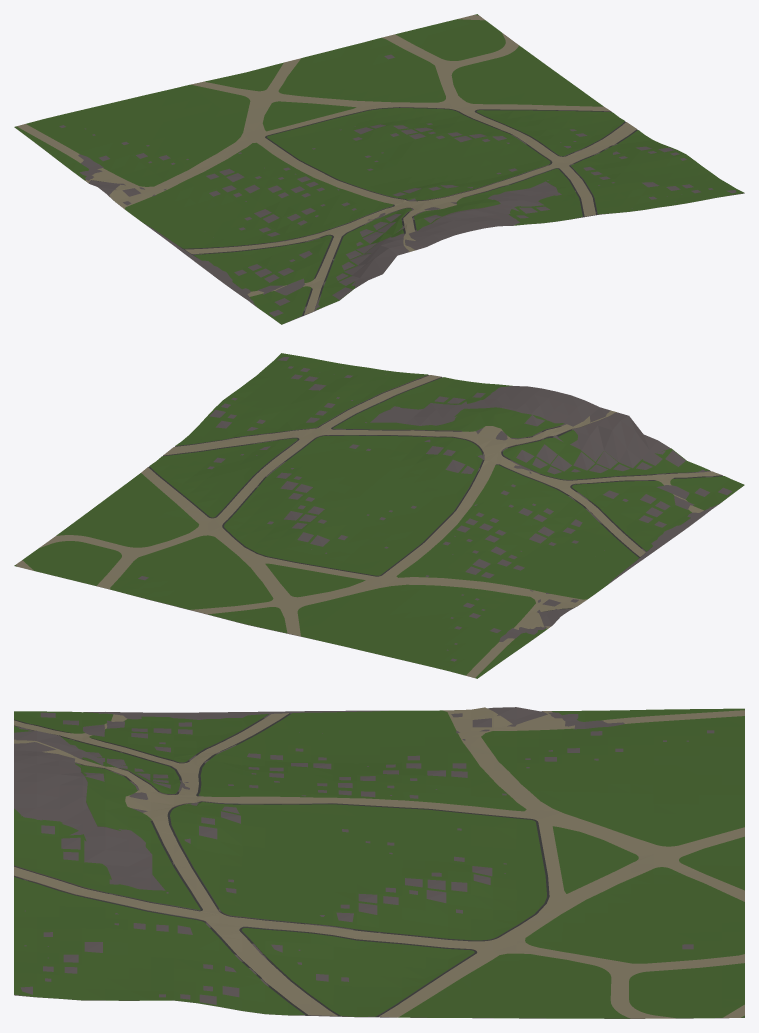
The picture shows the model from 3 angles, top to bottom: view 1: azimuth 30°, elevation 25°; view 2: azimuth 150°, elevation 25°; view 3: azimuth 270°, elevation 25°; orthographic projection. The views are drawn at different scales.
Visible parts, largest first — view 1: c_p01_p11; view 2: c_p01_p11; view 3: c_p01_p11.
Part boxes in pixels (box(x1,y1,x2,y2)): c_p01_p11: box(14, 14, 744, 324); c_p01_p11: box(14, 353, 744, 678); c_p01_p11: box(14, 707, 744, 1018).
Size of the model in its own units: 128 by 12.76 by 128.
